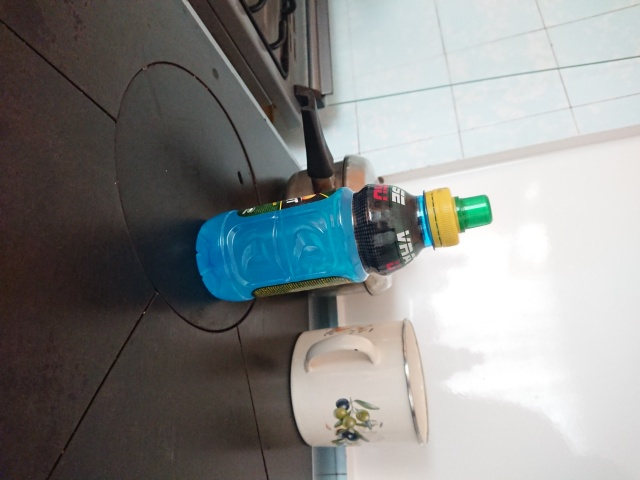Vindi Iso Sport Forest Strawberries 500mL: (193, 181, 494, 304)
